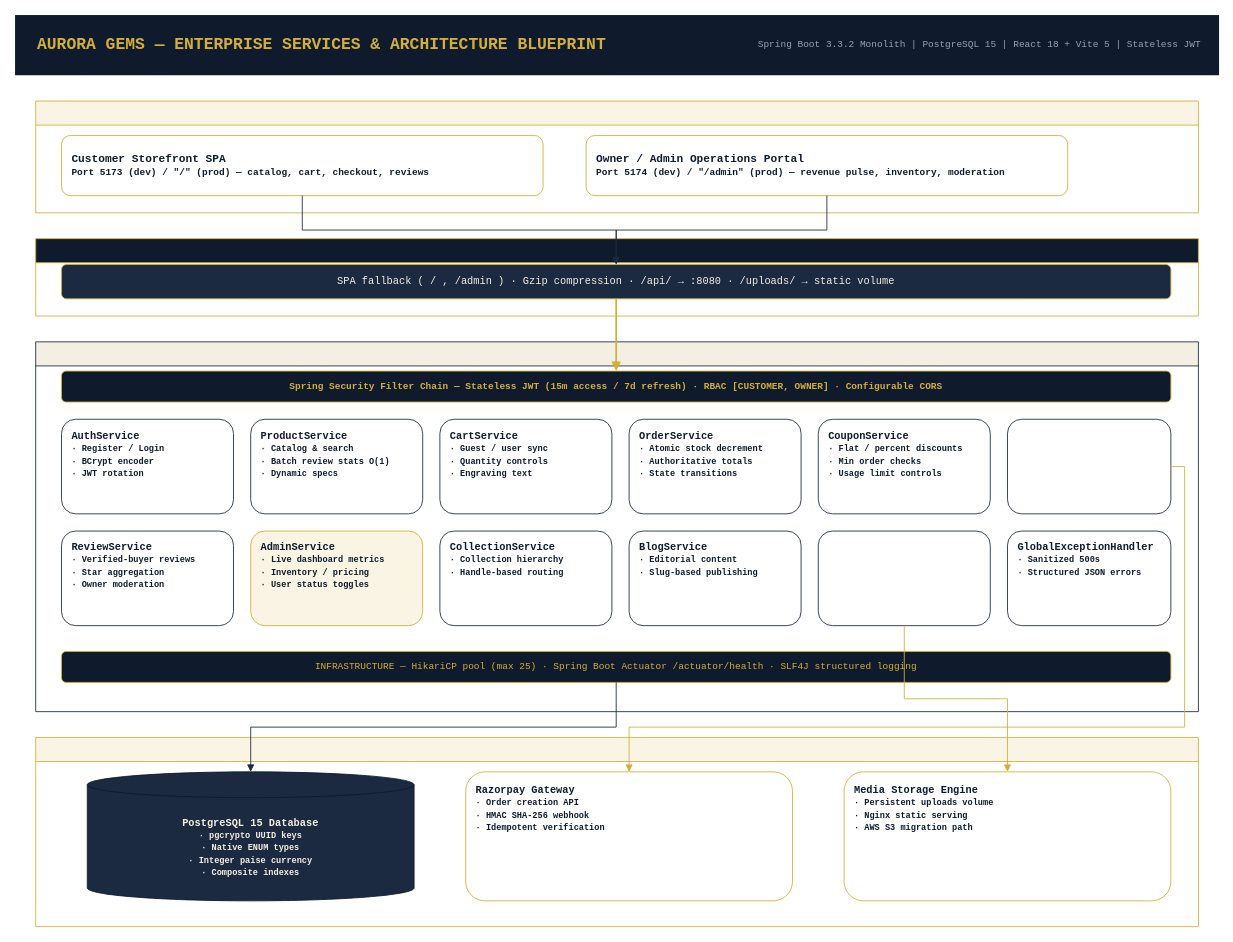
Some shapes in this 1233 by 942 pixel diagram are drawn without their labels. Each missing label, with the box of its shape:
PaymentService · Razorpay orders · Webhook HMAC verify · Idempotent updates: (1007, 418, 1171, 514)
TIER 1 — CLIENT APPLICATIONS (React 18 + Vite 5 + Tailwind CSS): (35, 100, 1198, 213)
TIER 2 — EDGE ROUTER (Nginx 1.25 Alpine Reverse Proxy, Port 80): (35, 238, 1198, 316)
TIER 3 — APPLICATION SERVICES LAYER (Spring Boot 3.3.2 Monolith / Java 17): (35, 341, 1198, 712)
TIER 4 — PERSISTENCE, MEDIA & THIRD-PARTY INTEGRATIONS: (35, 737, 1198, 927)
UploadService · Multipart image upload · Local volume persistence: (817, 530, 990, 626)
